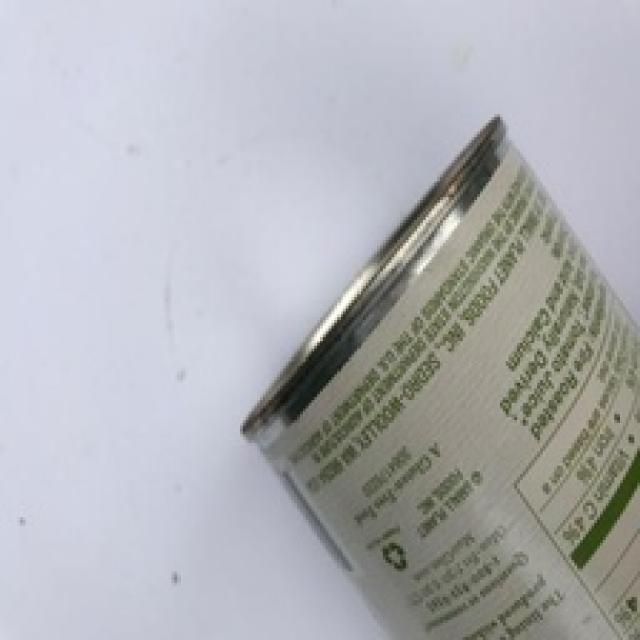recyclable: (240, 113, 640, 640)
